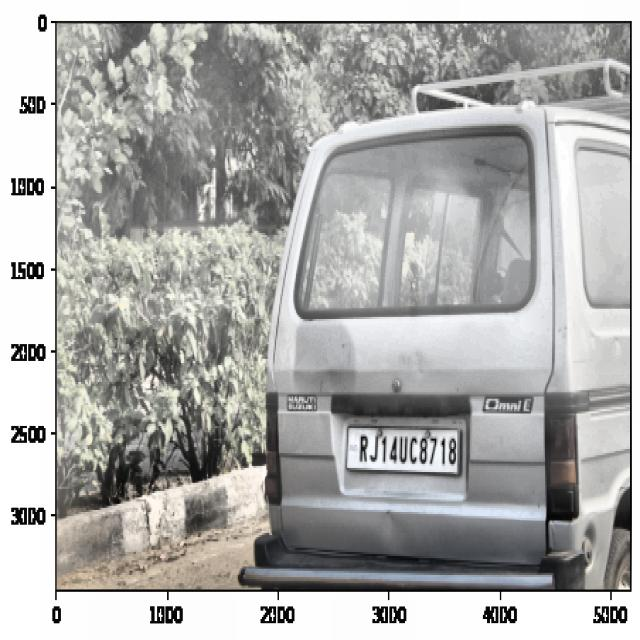license_plate: (353, 429, 462, 472)
